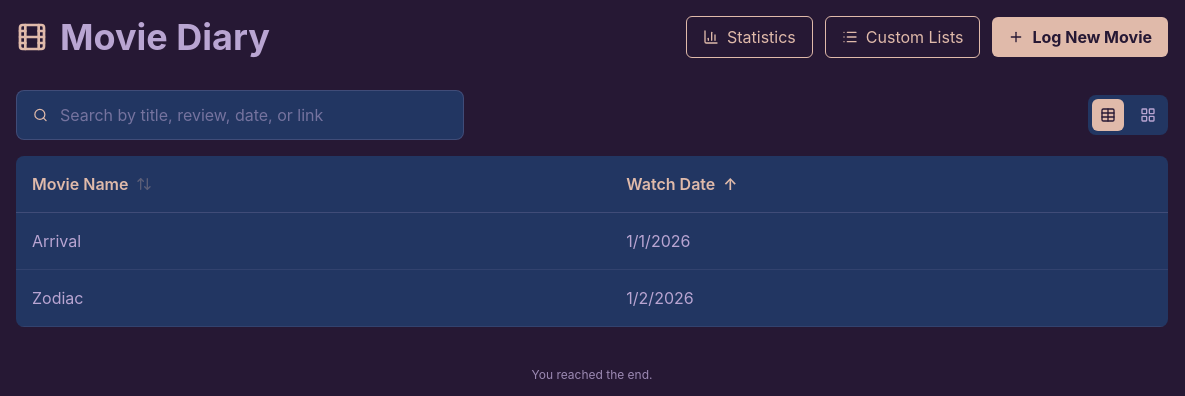
Test: MovieDiary › switches to card view and selects a movie from card layout
Click the button named "Card view". click: (1148, 115)
box: [1132,99,1164,131]
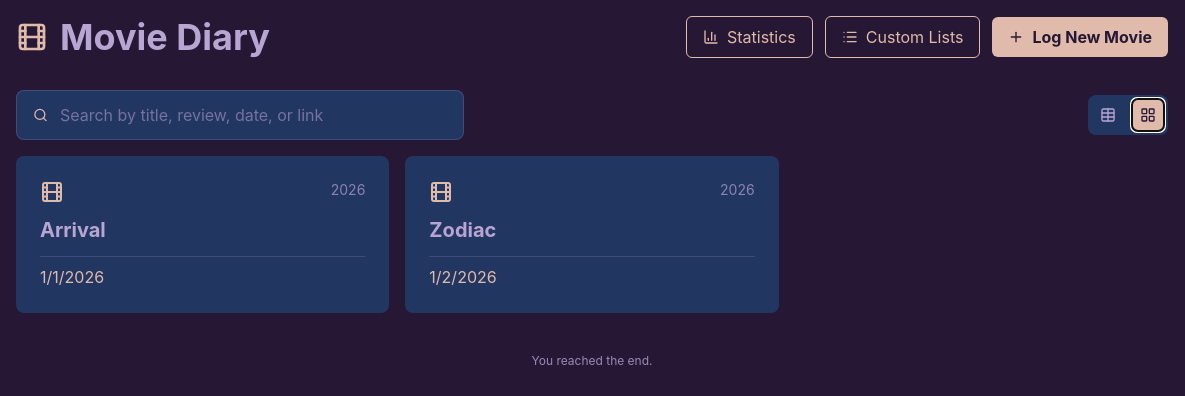
Click the heading "Arrival". click: (73, 230)
box: [40,218,106,242]
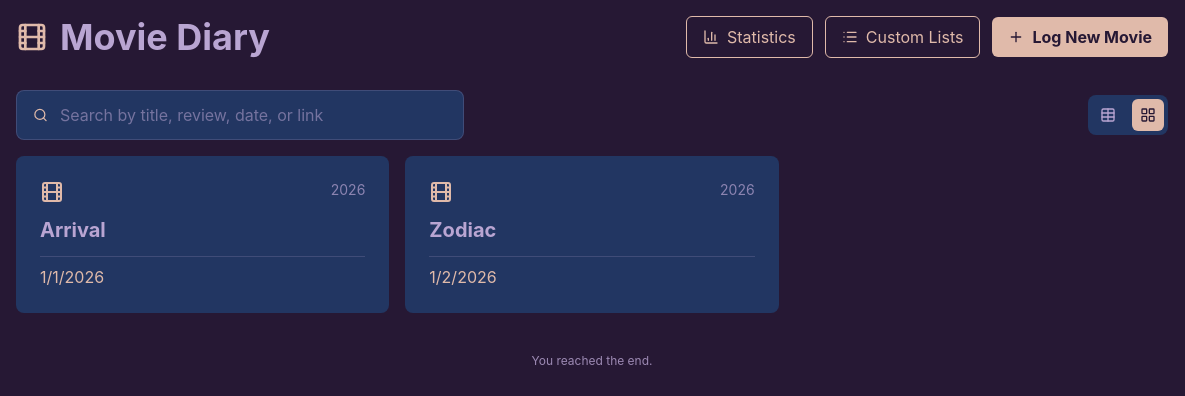
Check: the button "Movie Name" is not shown
Click the button named "Table view". click: (1108, 115)
box: [1092,99,1124,131]
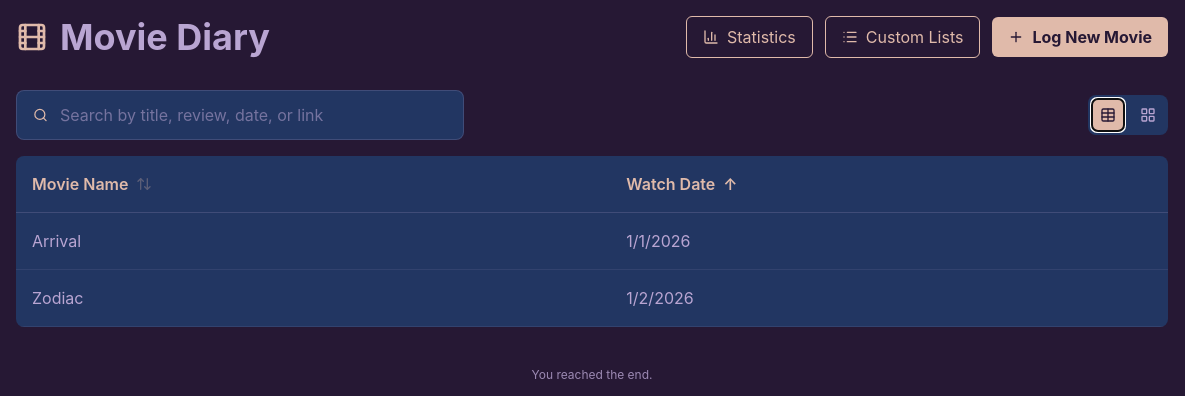
Check: the button "Movie Name" is shown, box [32,172,152,196]
